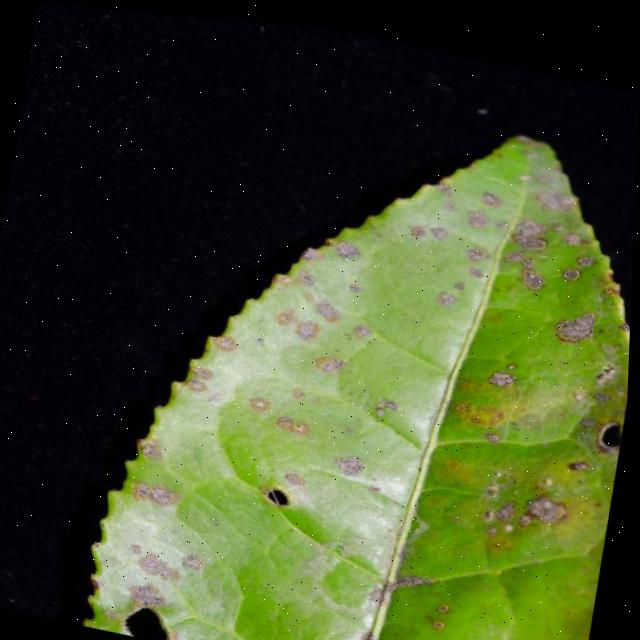Tea red rust: (93, 61, 638, 640)
